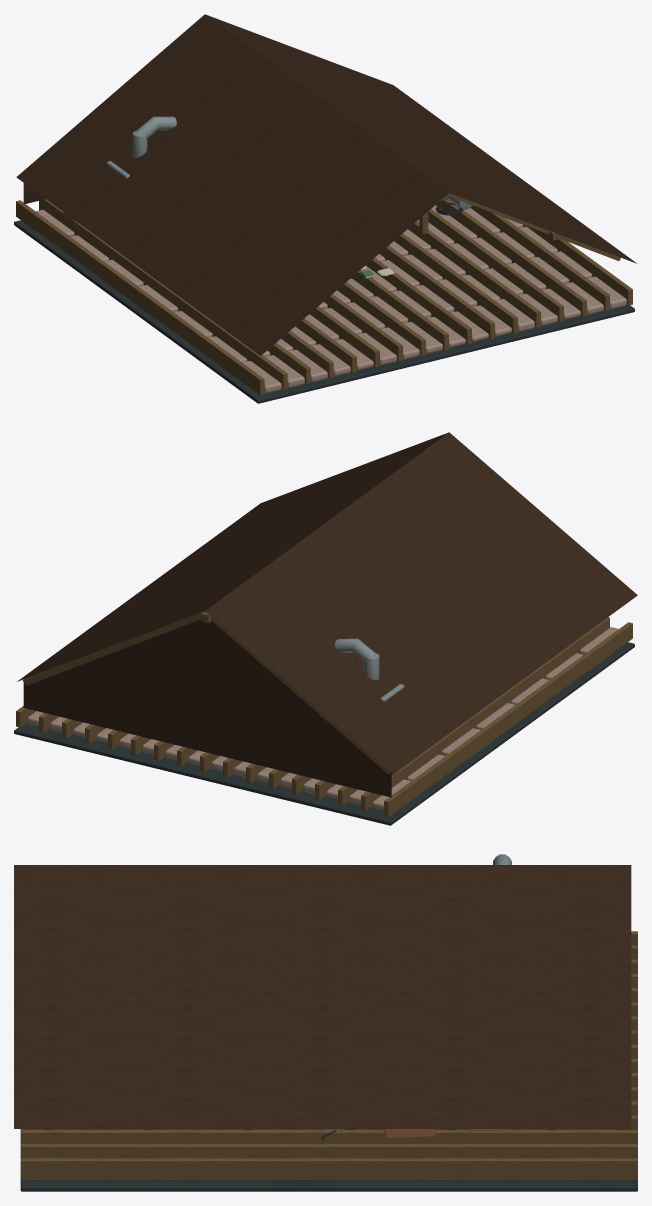
File: attic.glb
3 renders of one model, top to bottom at view 1: azimuth 30°, elevation 25°; view 2: azimuth 150°, elevation 25°; view 3: azimuth 270°, elevation 25°, orthographic. The views are drawn at different scales.
Parts seen in each view (by area): view 1: Pitched unfinished roof, Pitched unfinished roof.001, Dark unfinished floor cavity, Exposed rough floor joist, Exposed rough floor joist.001, Exposed rough floor joist.014, Exposed rough floor joist.013, Exposed rough floor joist.015, Exposed rough floor joist.012, Exposed rough floor joist.011, Exposed rough floor joist.010, Exposed rough floor joist.009 (+10 smaller); view 2: Pitched unfinished roof, Unfinished gable sheathing, Pitched unfinished roof.001, Dark unfinished floor cavity, Exposed rough floor joist, Exposed rough floor joist.001, Exposed roof rafter.013, Exposed roof rafter.006; view 3: Pitched unfinished roof.001, Exposed rough floor joist.016, Exposed rough floor joist.015, Exposed rough floor joist.014, Dark unfinished floor cavity, Exposed rough floor joist.013.
Boxes of the visible parts, left/top/right/bottom form: Pitched unfinished roof: left=16, top=14, right=448, bottom=355; Pitched unfinished roof.001: left=205, top=14, right=636, bottom=263; Dark unfinished floor cavity: left=14, top=220, right=634, bottom=403; Exposed rough floor joist: left=16, top=200, right=264, bottom=395; Exposed rough floor joist.001: left=39, top=199, right=287, bottom=389; Exposed rough floor joist.014: left=436, top=199, right=586, bottom=316; Exposed rough floor joist.013: left=428, top=209, right=563, bottom=322; Exposed rough floor joist.015: left=470, top=205, right=609, bottom=310; Exposed rough floor joist.012: left=408, top=221, right=540, bottom=327; Exposed rough floor joist.011: left=394, top=233, right=517, bottom=333; Exposed rough floor joist.010: left=379, top=245, right=494, bottom=339; Exposed rough floor joist.009: left=366, top=257, right=471, bottom=344; Pitched unfinished roof: left=205, top=432, right=637, bottom=773; Unfinished gable sheathing: left=23, top=619, right=391, bottom=797; Pitched unfinished roof.001: left=17, top=432, right=448, bottom=681; Dark unfinished floor cavity: left=14, top=642, right=634, bottom=825; Exposed rough floor joist: left=384, top=622, right=632, bottom=817; Exposed rough floor joist.001: left=361, top=617, right=609, bottom=811; Exposed roof rafter.013: left=22, top=611, right=205, bottom=685; Exposed roof rafter.006: left=211, top=617, right=390, bottom=774; Pitched unfinished roof.001: left=14, top=865, right=631, bottom=1128; Exposed rough floor joist.016: left=20, top=1158, right=637, bottom=1180; Exposed rough floor joist.015: left=20, top=1144, right=637, bottom=1158; Exposed rough floor joist.014: left=20, top=1130, right=637, bottom=1143; Dark unfinished floor cavity: left=20, top=1180, right=637, bottom=1191; Exposed rough floor joist.013: left=20, top=1115, right=637, bottom=1129.
Bounding box in the file's own units: 8.2 × 3.47 × 9.3.
31 materials, 30 textured.
